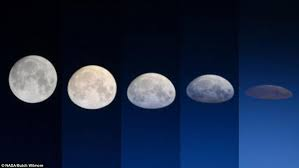moon: (7, 53, 58, 102)
